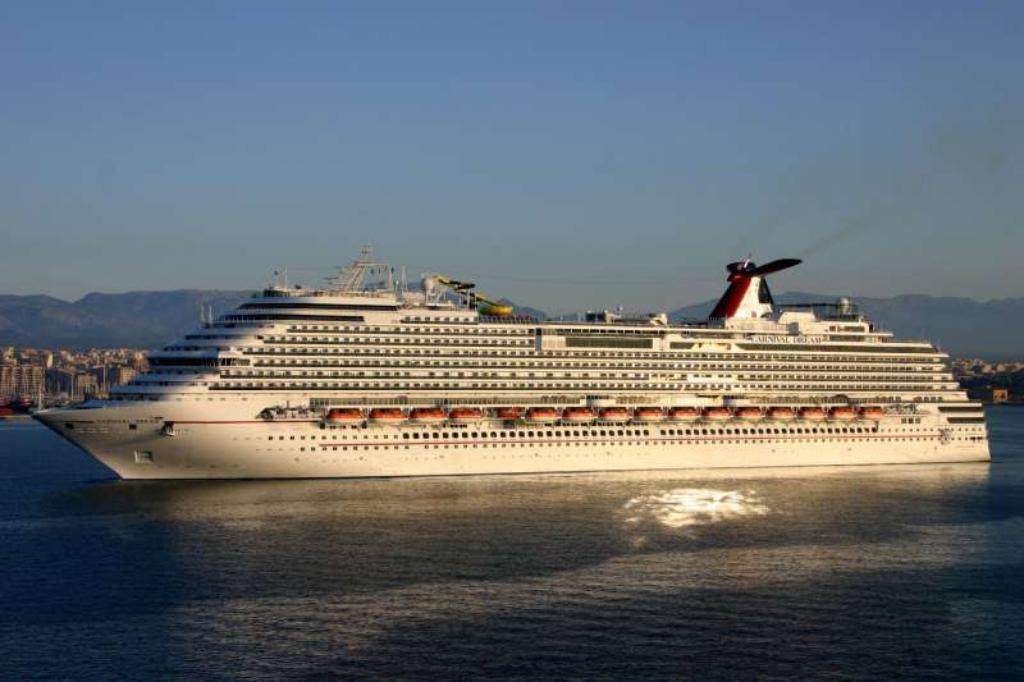PassengerShip: (40, 250, 1010, 479)
